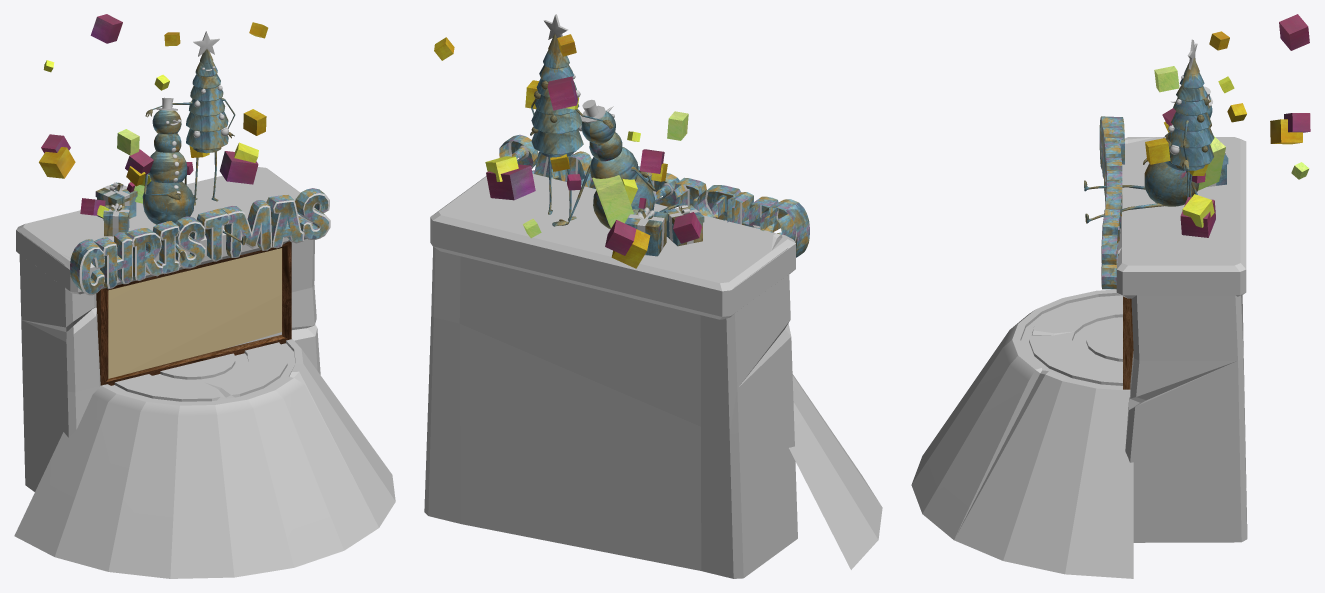
File: Str_Stand_Christmas_Art.fbx
3 renders of one model, left to right at view 1: azimuth 30°, elevation 25°; view 2: azimuth 150°, elevation 25°; view 3: azimuth 270°, elevation 25°, orthographic. The views are drawn at different scales.
Parts seen in each view (by area): view 1: Str_Stand_Christmas; view 2: Str_Stand_Christmas; view 3: Str_Stand_Christmas.
Part boxes in pixels (x1=…): Str_Stand_Christmas: x1=14, y1=14, x2=395, y2=578; Str_Stand_Christmas: x1=424, y1=14, x2=882, y2=578; Str_Stand_Christmas: x1=911, y1=14, x2=1310, y2=578.
Bounding box in the file's own units: 1541 × 1787 × 1383.
